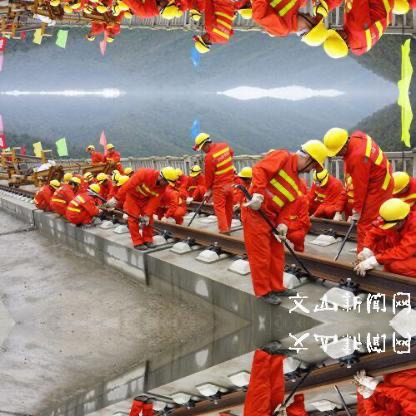Safety Helmet: (371, 196, 416, 237), (295, 135, 332, 179), (319, 124, 355, 162), (385, 166, 413, 200), (158, 163, 185, 194), (189, 129, 217, 156), (66, 175, 88, 200), (309, 167, 335, 187), (236, 163, 258, 185), (84, 182, 109, 201), (113, 171, 134, 190), (187, 161, 204, 182), (102, 141, 121, 159)
